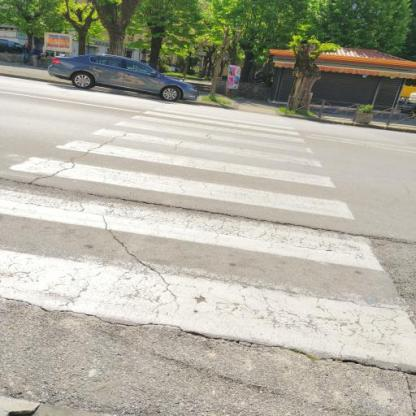crosswalk: (0, 138, 357, 224)
